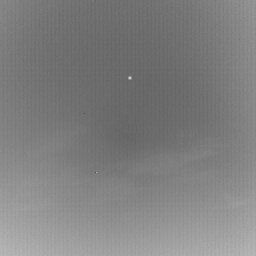Target: (127, 74, 133, 81)
